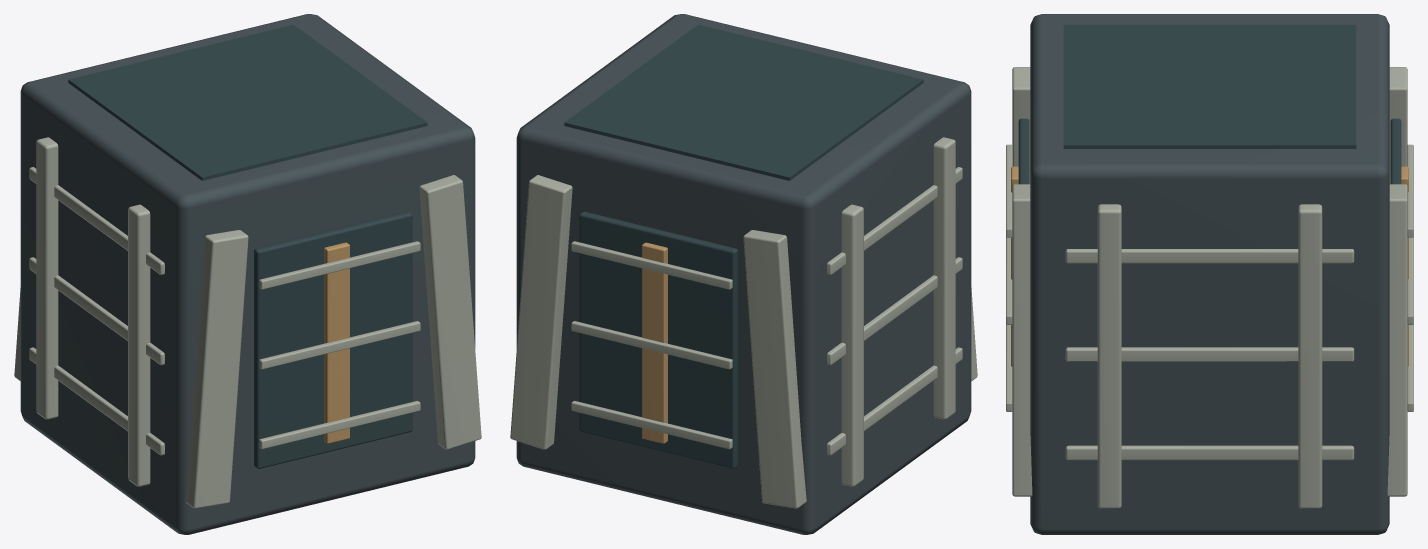
File: gate-shaft-0.glb
3 renders of one model, left to right at view 1: azimuth 30°, elevation 25°; view 2: azimuth 150°, elevation 25°; view 3: azimuth 270°, elevation 25°, orthographic. The views are drawn at different scales.
Parts seen in each view (by area): view 1: gate_0, gate_2, gate_1, gate_3; view 2: gate_0, gate_2, gate_1, gate_3; view 3: gate_0, gate_1, gate_2, gate_3.
Part boxes in pixels (x1,y1,x2,y2): gate_0: (20, 14, 475, 534); gate_2: (68, 24, 427, 468); gate_1: (14, 137, 481, 508); gate_3: (324, 242, 349, 443); gate_0: (516, 14, 971, 534); gate_2: (564, 24, 923, 468); gate_1: (510, 137, 977, 508); gate_3: (642, 242, 667, 443); gate_0: (1030, 14, 1389, 534); gate_1: (1006, 67, 1413, 508); gate_2: (1018, 25, 1401, 184); gate_3: (1011, 166, 1408, 366).
Bounding box in the file's own units: 0.974 × 1 × 0.976.
